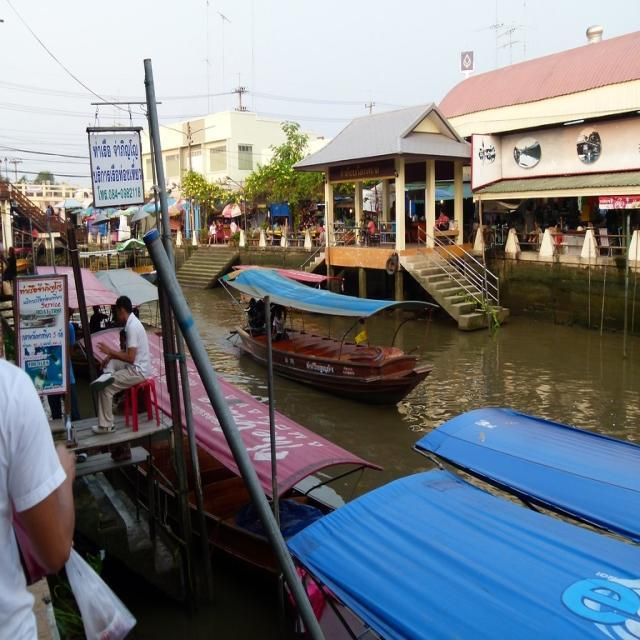boat: (229, 258, 439, 403)
